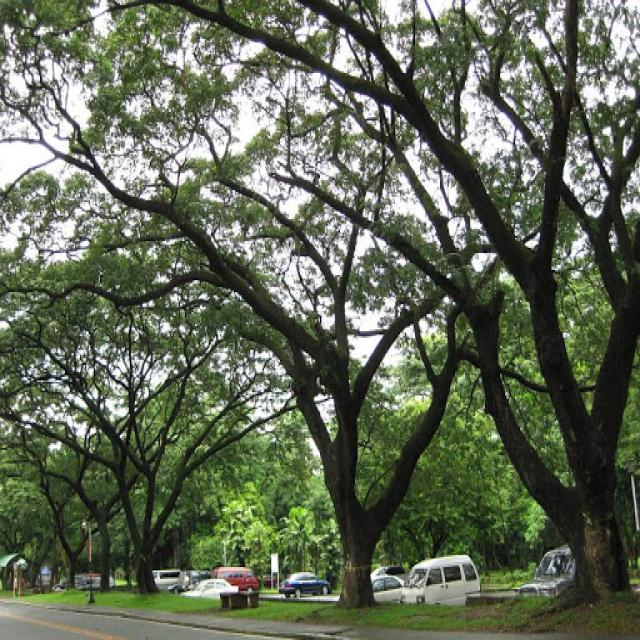Acacia: (0, 10, 640, 520)
